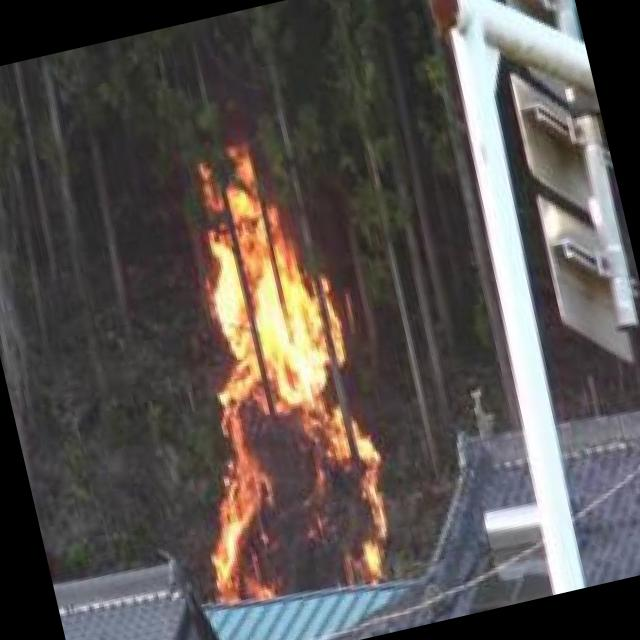Fire: (128, 147, 394, 608)
